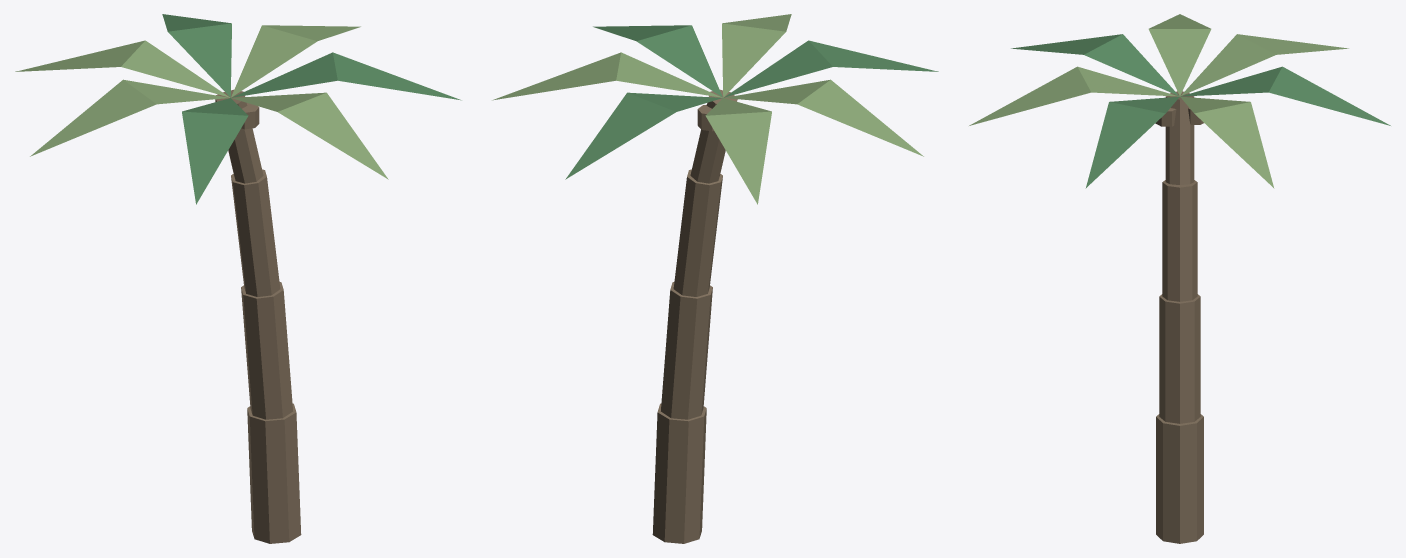
The model's file is NAT_Palm_A.fbx.
3 renders of one model, left to right at view 1: azimuth 30°, elevation 25°; view 2: azimuth 150°, elevation 25°; view 3: azimuth 270°, elevation 25°, orthographic. The views are drawn at different scales.
Parts seen in each view (by area): view 1: NAT_Palm_A_ENV_Bark, NAT_Palm_A_ENV_Moss, NAT_Palm_A_MAT_IslandTree; view 2: NAT_Palm_A_ENV_Bark, NAT_Palm_A_ENV_Moss, NAT_Palm_A_MAT_IslandTree; view 3: NAT_Palm_A_ENV_Bark, NAT_Palm_A_ENV_Moss, NAT_Palm_A_MAT_IslandTree.
Boxes of the visible parts, bbox=[...] form: NAT_Palm_A_ENV_Bark: bbox=[215, 89, 301, 543]; NAT_Palm_A_ENV_Moss: bbox=[15, 25, 388, 179]; NAT_Palm_A_MAT_IslandTree: bbox=[162, 14, 461, 204]; NAT_Palm_A_ENV_Bark: bbox=[652, 89, 737, 543]; NAT_Palm_A_ENV_Moss: bbox=[492, 14, 923, 204]; NAT_Palm_A_MAT_IslandTree: bbox=[565, 25, 938, 179]; NAT_Palm_A_ENV_Bark: bbox=[1155, 91, 1203, 543]; NAT_Palm_A_ENV_Moss: bbox=[969, 14, 1348, 188]; NAT_Palm_A_MAT_IslandTree: bbox=[1011, 34, 1390, 188].
Bounding box in the file's own units: 485 × 575 × 497.
